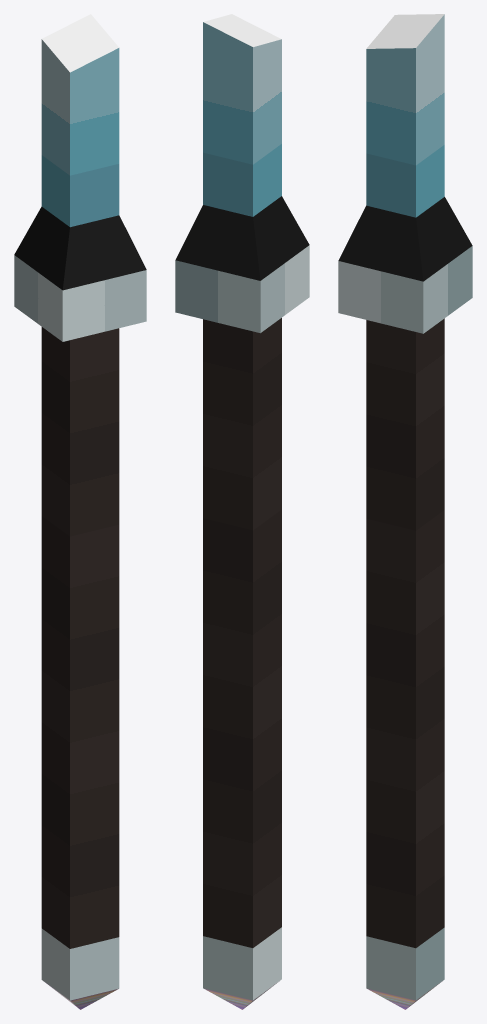
Rendered from wand_ice.obj.
The picture shows the model from 3 angles, left to right: view 1: azimuth 30°, elevation 25°; view 2: azimuth 150°, elevation 25°; view 3: azimuth 330°, elevation 25°; orthographic projection.
Visible parts, largest first — view 1: WAND_VAR19_Cube.014; view 2: WAND_VAR19_Cube.014; view 3: WAND_VAR19_Cube.014.
Boxes of the visible parts, bbox=[...] form: WAND_VAR19_Cube.014: bbox=[14, 14, 146, 1009]; WAND_VAR19_Cube.014: bbox=[175, 14, 309, 1009]; WAND_VAR19_Cube.014: bbox=[338, 14, 472, 1009].
Bounding box in the file's own units: 0.1067 × 1.19 × 0.1067.
